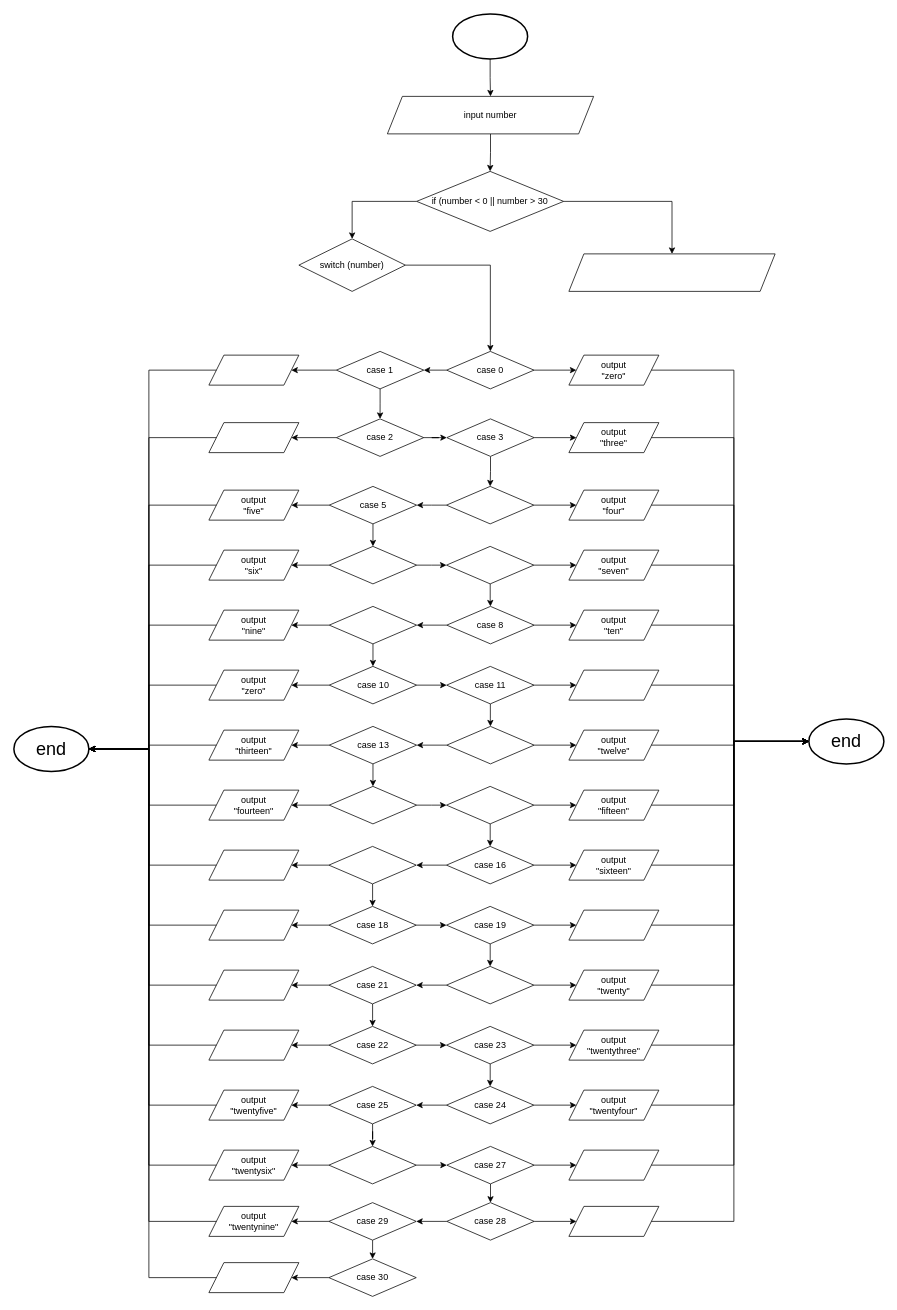
Some shapes in this 897 by 1310 pixel diagram are drawn without their labels. The box of each missing label's shape, as (x1, y1, x2, y2) in pixels:
case 12: (446, 726, 534, 764)
case 14: (328, 786, 417, 824)
case 15: (446, 786, 534, 824)
case 17: (328, 846, 416, 884)
case 20: (446, 966, 534, 1004)
case 26: (328, 1146, 416, 1184)
case 4: (446, 486, 534, 524)
case 6: (328, 546, 417, 584)
case 7: (446, 546, 534, 584)
case 9: (328, 606, 417, 644)
output "eightteen": (208, 909, 299, 940)
output "eleven": (568, 669, 659, 700)
output "nineteen": (568, 909, 659, 940)
output "one": (208, 354, 299, 385)
output "please enter a number between 0 and 30": (568, 253, 775, 291)
output "seventeen": (208, 849, 299, 880)
output "thirty": (208, 1262, 299, 1293)
output "twentyeight": (568, 1206, 659, 1236)
output "twentyone": (208, 969, 299, 1000)
output "twentyseven": (568, 1149, 659, 1180)
output "twentytwo": (208, 1029, 299, 1060)
output "two": (208, 422, 299, 453)
start: (452, 13, 528, 59)
